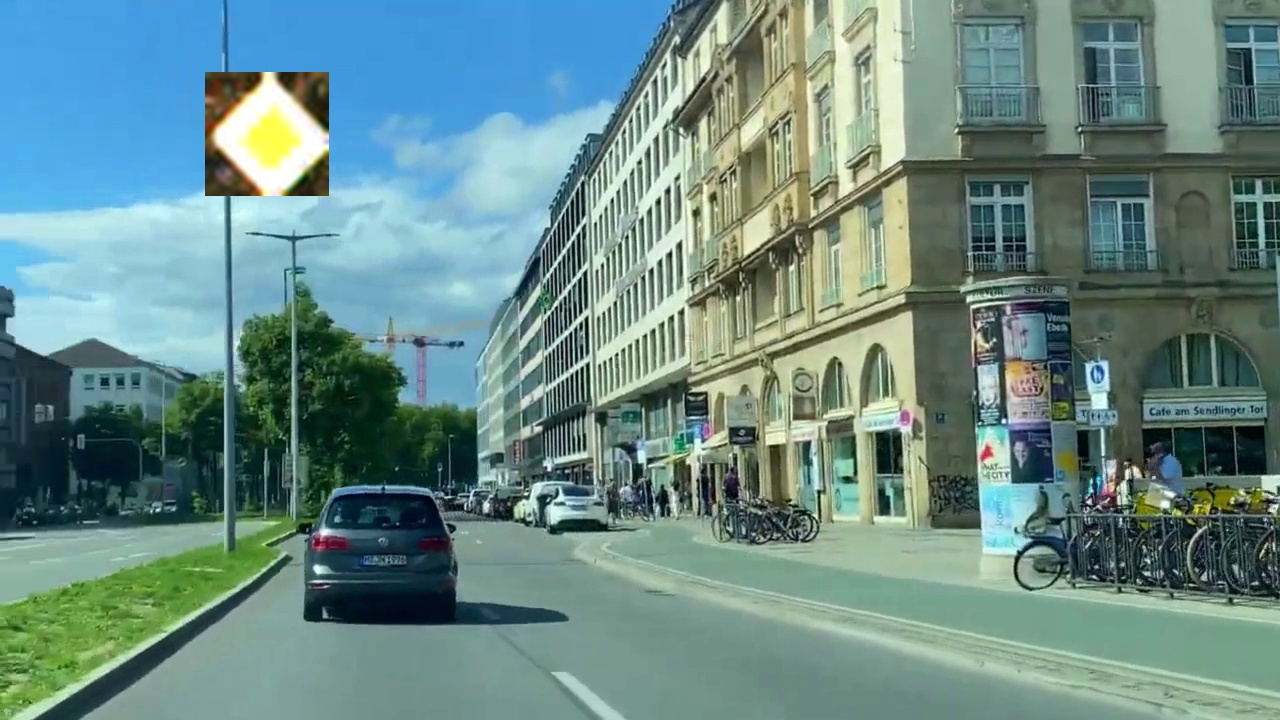Priority road: (205, 72, 329, 196)
